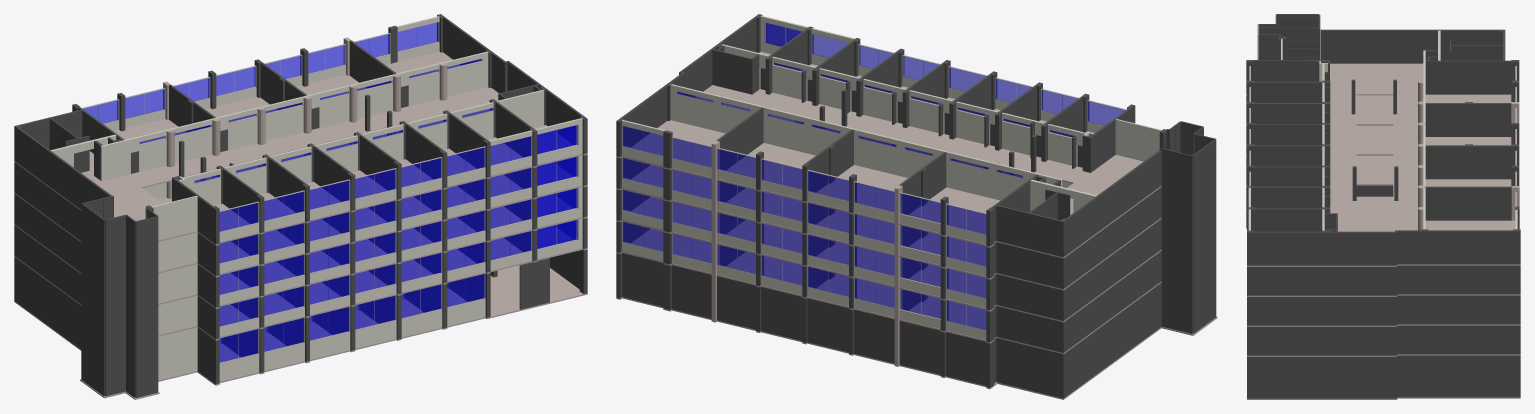
Rendered from EDIFICIO_AULAS_M3D.glb.
3 views of the same model, side by side, from view 1: azimuth 30°, elevation 25°; view 2: azimuth 150°, elevation 25°; view 3: azimuth 270°, elevation 25° (orthographic). The views are drawn at different scales.
Visible parts, largest first — view 1: empty_4278, empty_4277, empty_168, empty_4, empty_57, empty_131, empty_94, empty_176, empty_174, empty_172, empty_171, empty_175 (+23 smaller); view 2: empty_4277, empty_4278, empty_4, empty_168, empty_57, empty_94, empty_131, empty_2, empty_167, empty_130, empty_56, empty_93 (+26 smaller); view 3: empty_4277, empty_168, empty_23, empty_179, empty_184, empty_159, empty_27, empty_26, empty_48, empty_85, empty_122, empty_163 (+43 smaller).
Part boxes in pixels (x1,y1,x2,y2): empty_4278: (50, 16, 582, 381); empty_4277: (14, 37, 587, 399); empty_168: (18, 128, 111, 209); empty_4: (18, 260, 81, 349); empty_57: (18, 229, 81, 303); empty_131: (18, 165, 81, 240); empty_94: (18, 197, 81, 272); empty_176: (222, 168, 259, 223); empty_174: (313, 146, 350, 201); empty_172: (405, 124, 442, 178); empty_171: (449, 113, 486, 168); empty_175: (268, 157, 305, 212); empty_4277: (616, 51, 1217, 399); empty_4278: (622, 15, 1161, 339); empty_4: (1067, 283, 1161, 395); empty_168: (1066, 150, 1161, 253); empty_57: (1067, 251, 1161, 349); empty_94: (1067, 219, 1161, 317); empty_131: (1067, 187, 1161, 285); empty_2: (996, 338, 1059, 397); empty_167: (996, 205, 1060, 256); empty_130: (996, 242, 1059, 287); empty_56: (996, 306, 1059, 351); empty_93: (996, 274, 1059, 319); empty_4277: (1246, 63, 1520, 399); empty_168: (1320, 29, 1497, 63); empty_23: (1428, 355, 1512, 397); empty_179: (1424, 186, 1511, 220); empty_184: (1425, 60, 1511, 94); empty_159: (1428, 230, 1512, 264); empty_27: (1255, 357, 1322, 398); empty_26: (1330, 357, 1394, 398); empty_48: (1428, 325, 1512, 354); empty_85: (1428, 295, 1512, 324); empty_122: (1428, 265, 1512, 294); empty_163: (1255, 231, 1322, 265).
Size of the model in its own units: 54.34 by 19.65 by 28.98.
